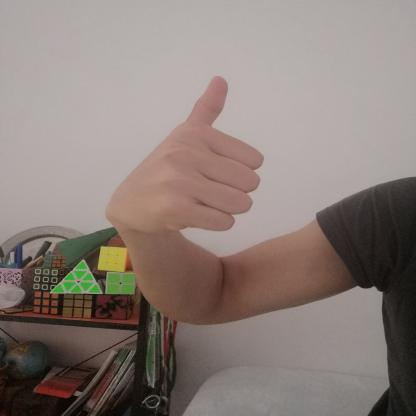ALIF: (96, 55, 274, 243)
